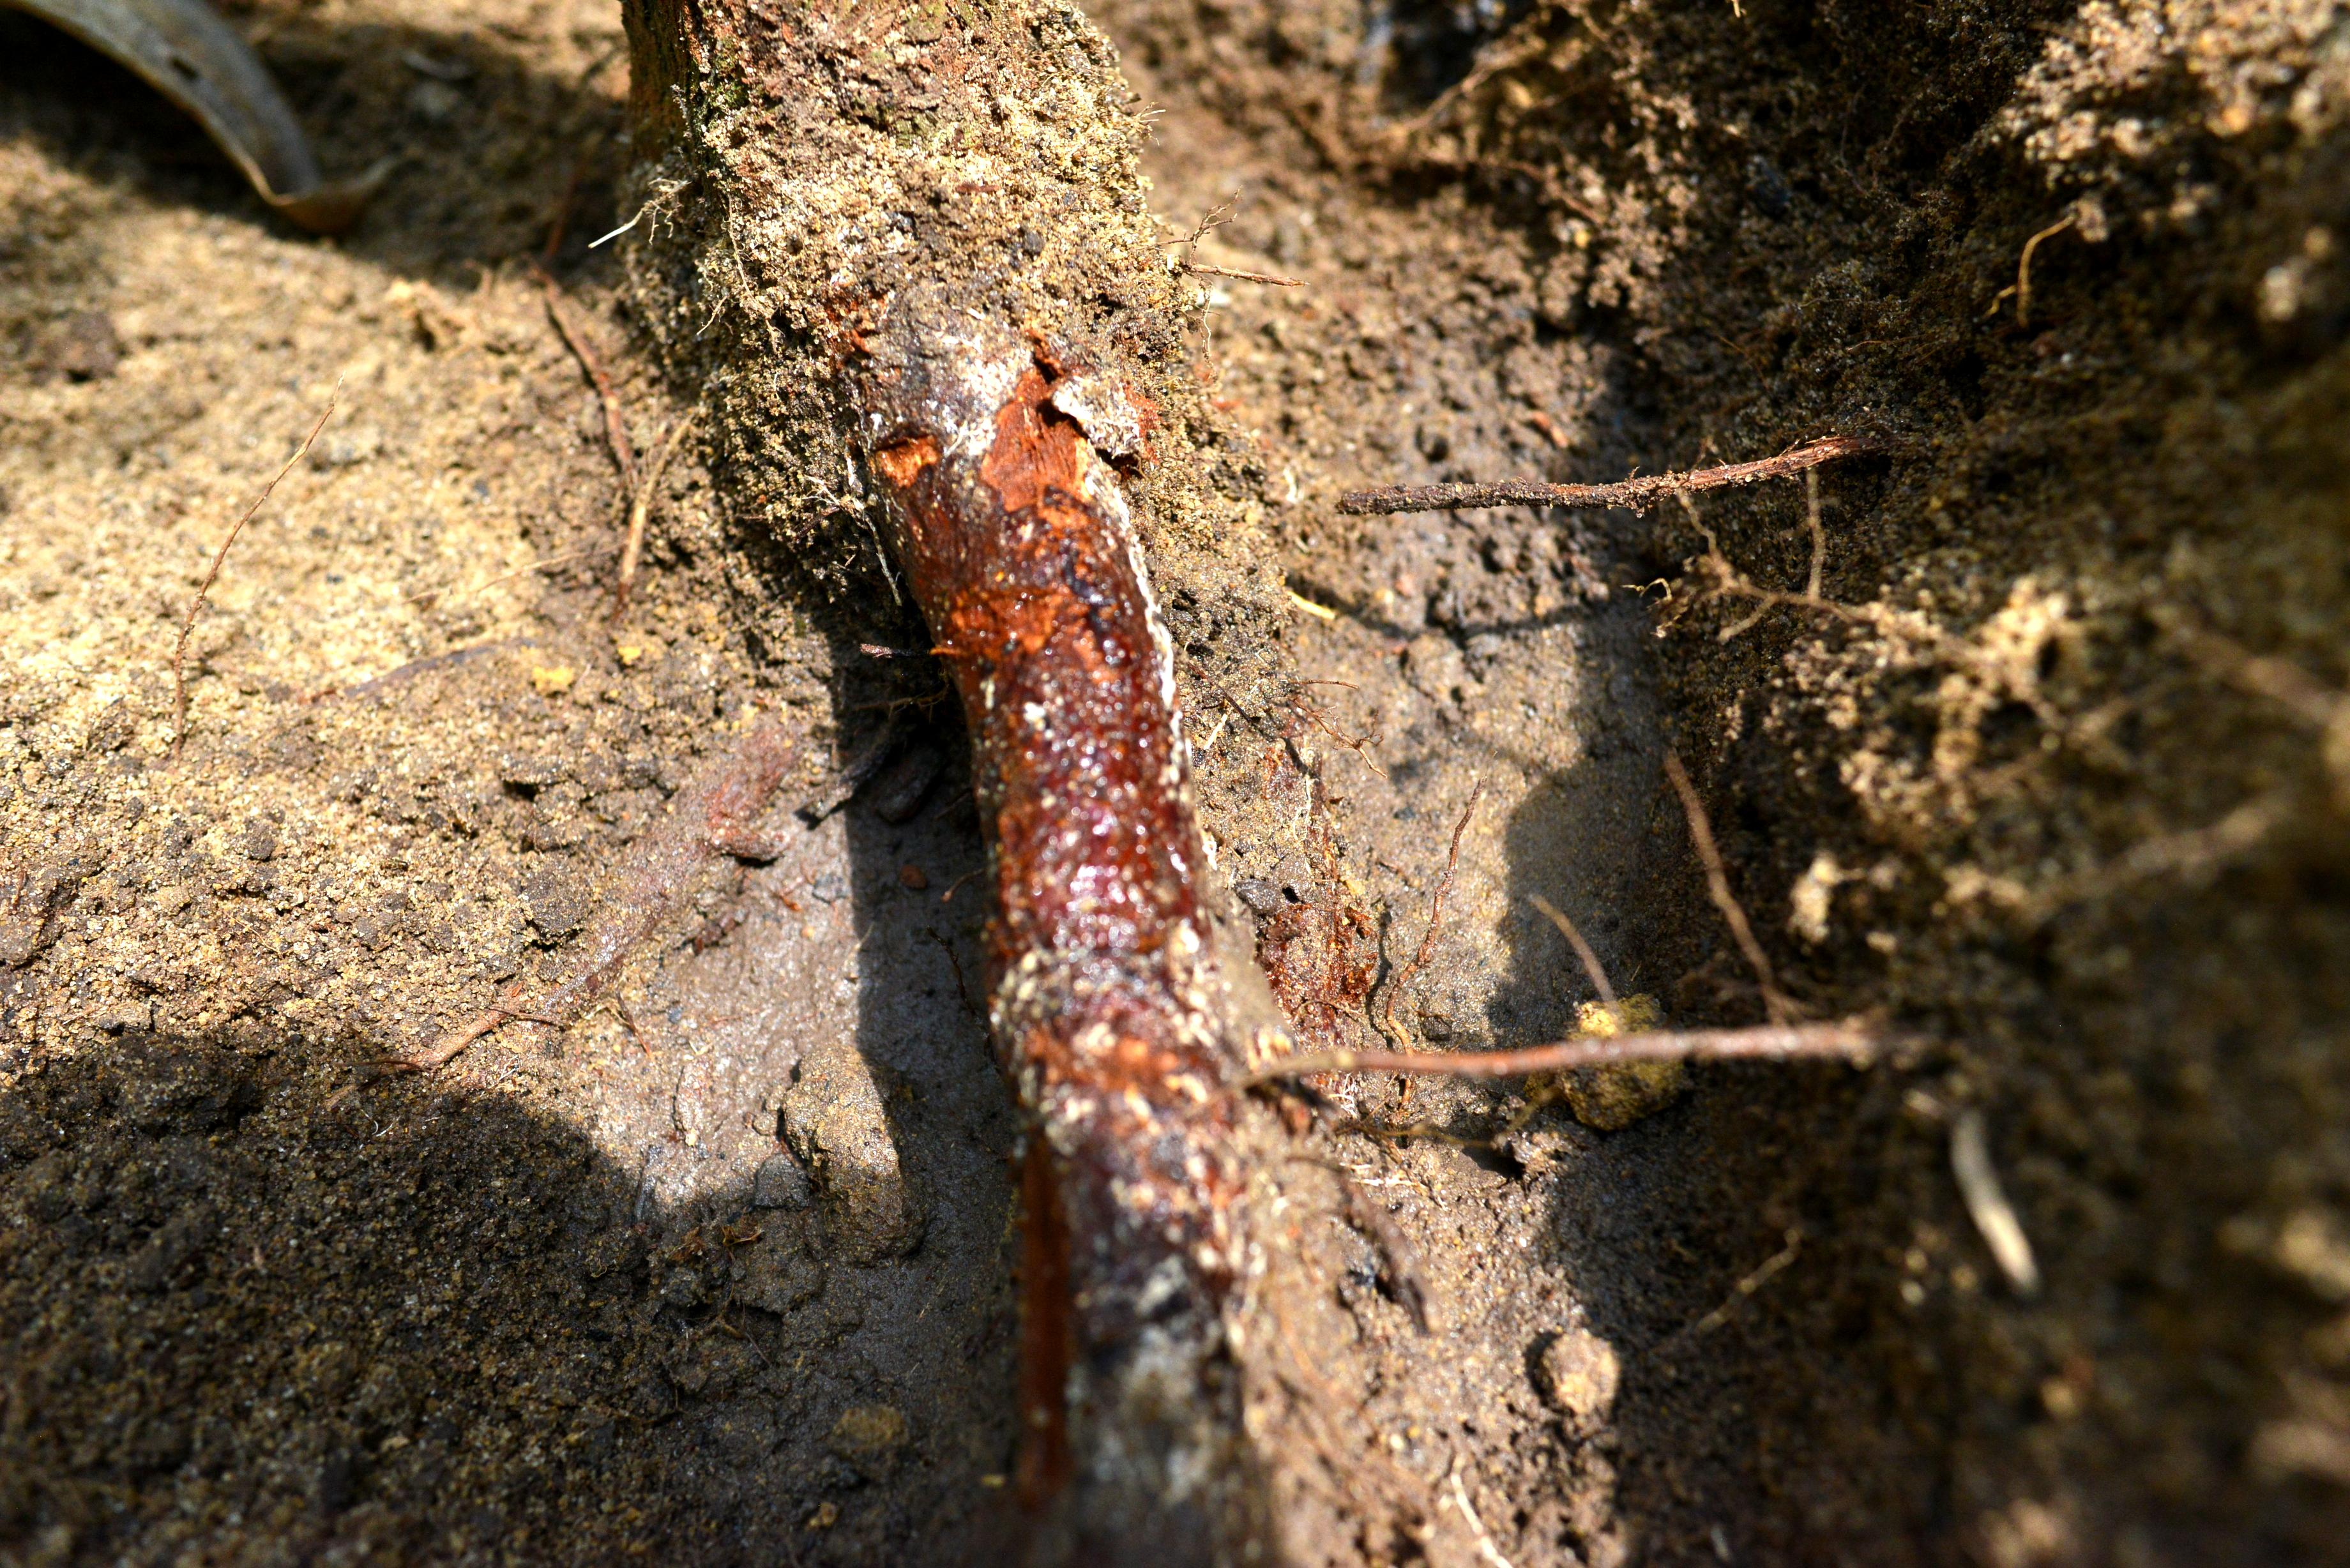Ganoderma - Mycelium: (1029, 1006, 1263, 1503), (1069, 458, 1220, 815), (889, 282, 1123, 430)
Red Root Rot - Secretion: (843, 448, 1291, 1001)
